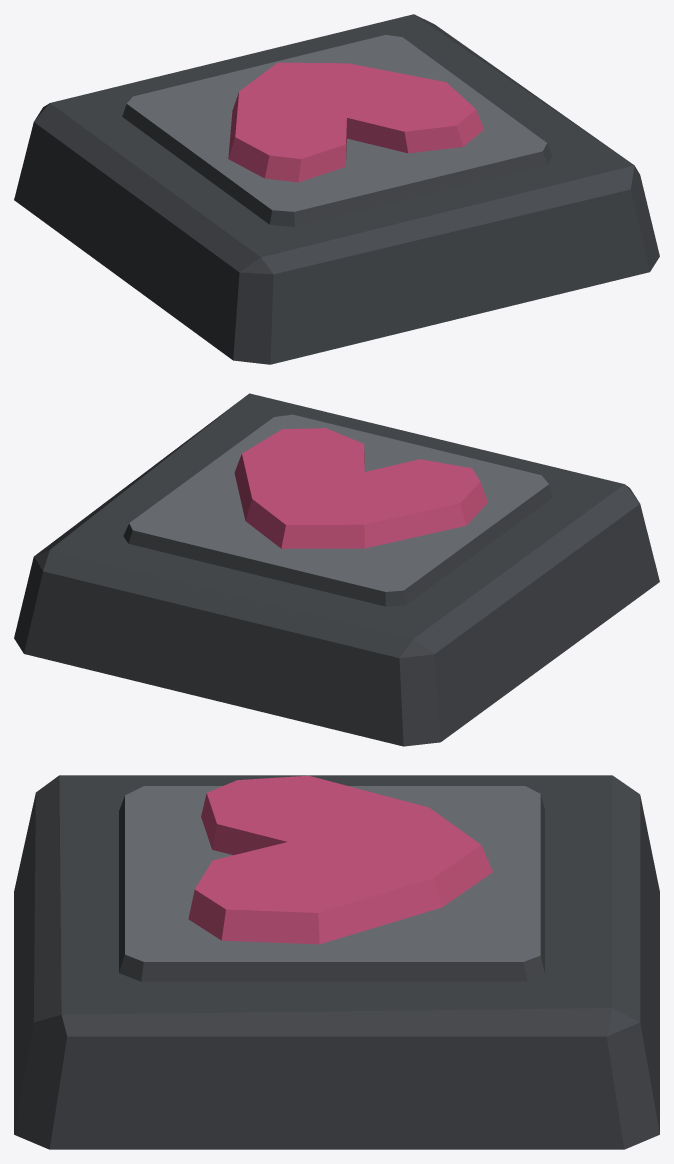
The model's file is PowerUp_Health.fbx.
3 renders of one model, top to bottom at view 1: azimuth 30°, elevation 25°; view 2: azimuth 150°, elevation 25°; view 3: azimuth 270°, elevation 25°, orthographic. The views are drawn at different scales.
Parts seen in each view (by area): view 1: PowerUp_Health; view 2: PowerUp_Health; view 3: PowerUp_Health.
Part boxes in pixels (x1=…): PowerUp_Health: x1=14, y1=14, x2=659, y2=364; PowerUp_Health: x1=14, y1=393, x2=659, y2=746; PowerUp_Health: x1=14, y1=775, x2=659, y2=1149.
Bounding box in the file's own units: 0.5687 × 0.1609 × 0.5687.
